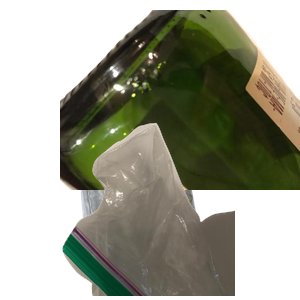glass: (60, 10, 300, 190)
metal: (85, 48, 300, 228)
plastic: (76, 151, 270, 300)
trash: (60, 120, 300, 300)
